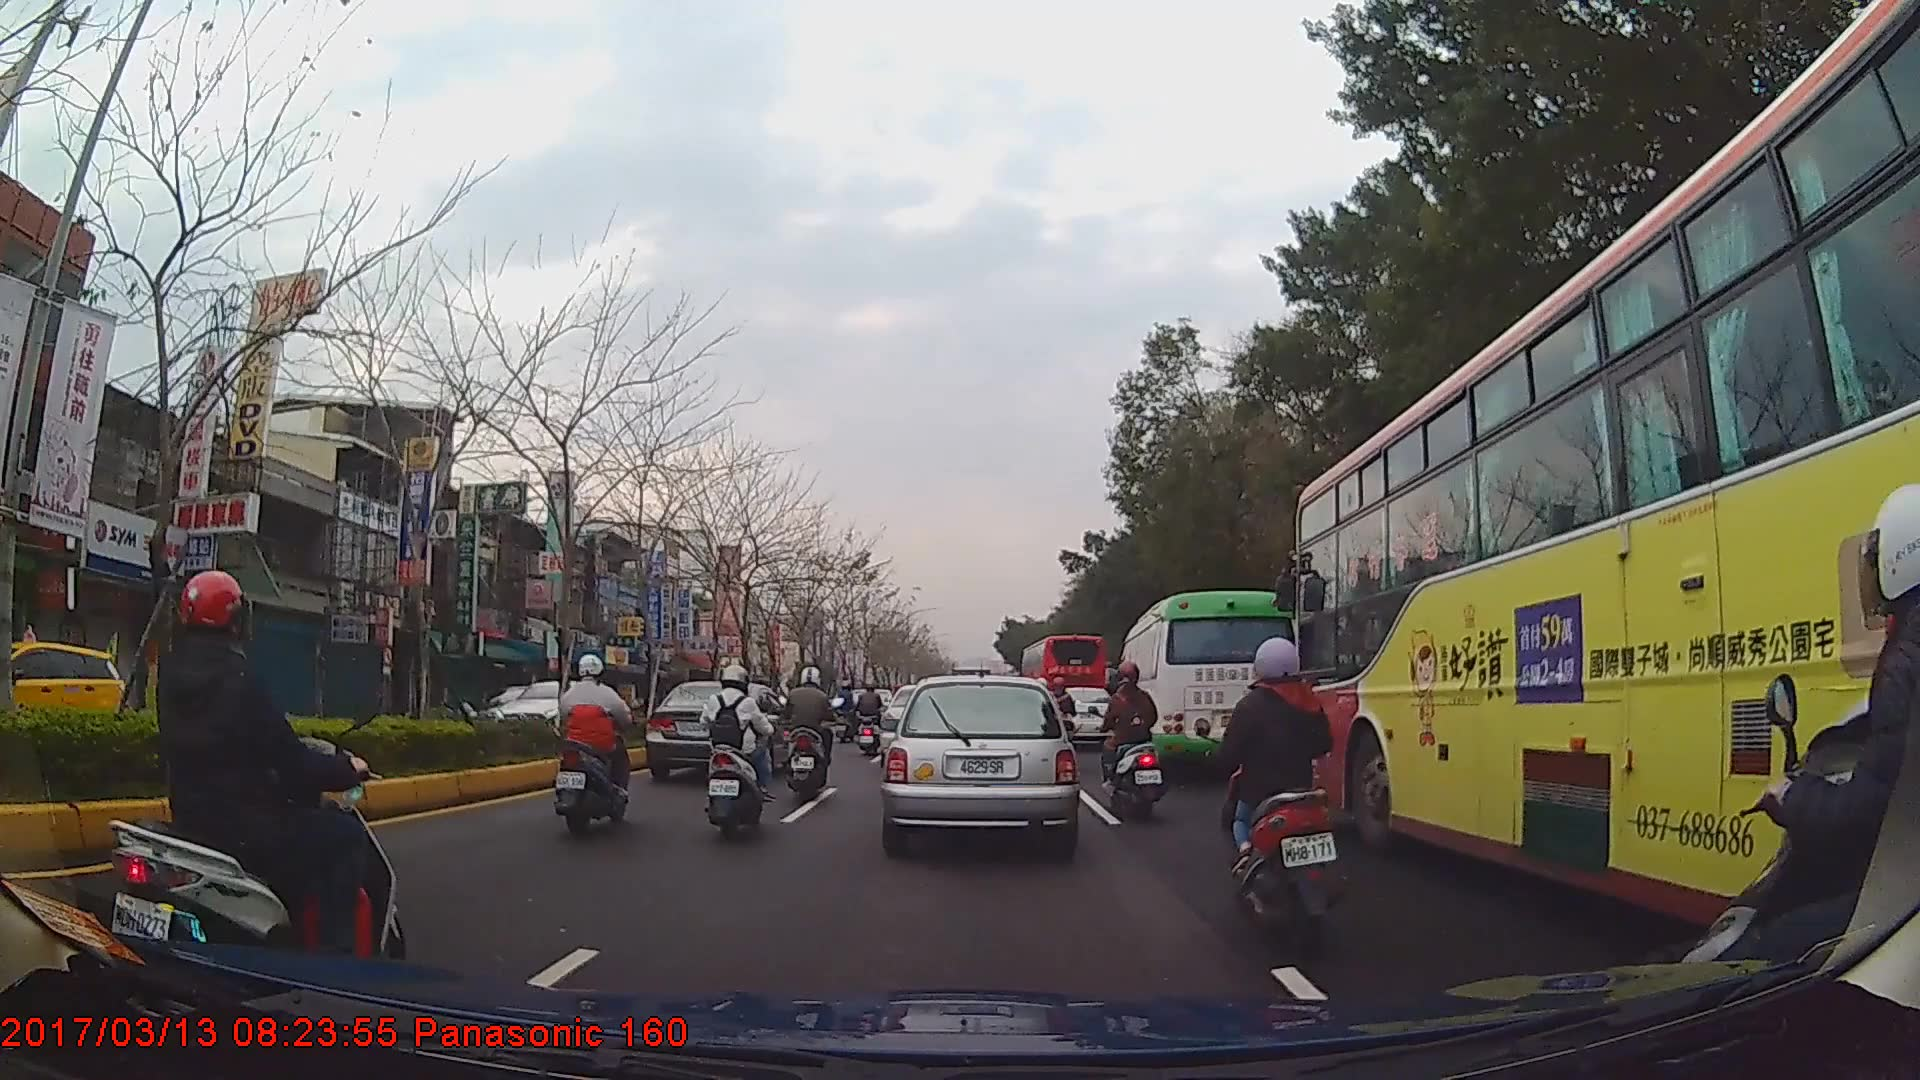rider: (105, 570, 400, 978), (1212, 635, 1344, 951), (558, 652, 635, 836), (700, 663, 774, 841), (1102, 663, 1166, 812), (780, 666, 843, 803), (855, 681, 888, 758), (838, 680, 860, 725)
vehicle: (1292, 0, 1920, 1014), (1115, 588, 1300, 779), (883, 671, 1077, 852), (0, 623, 147, 763), (644, 678, 796, 785), (1019, 631, 1108, 743)
